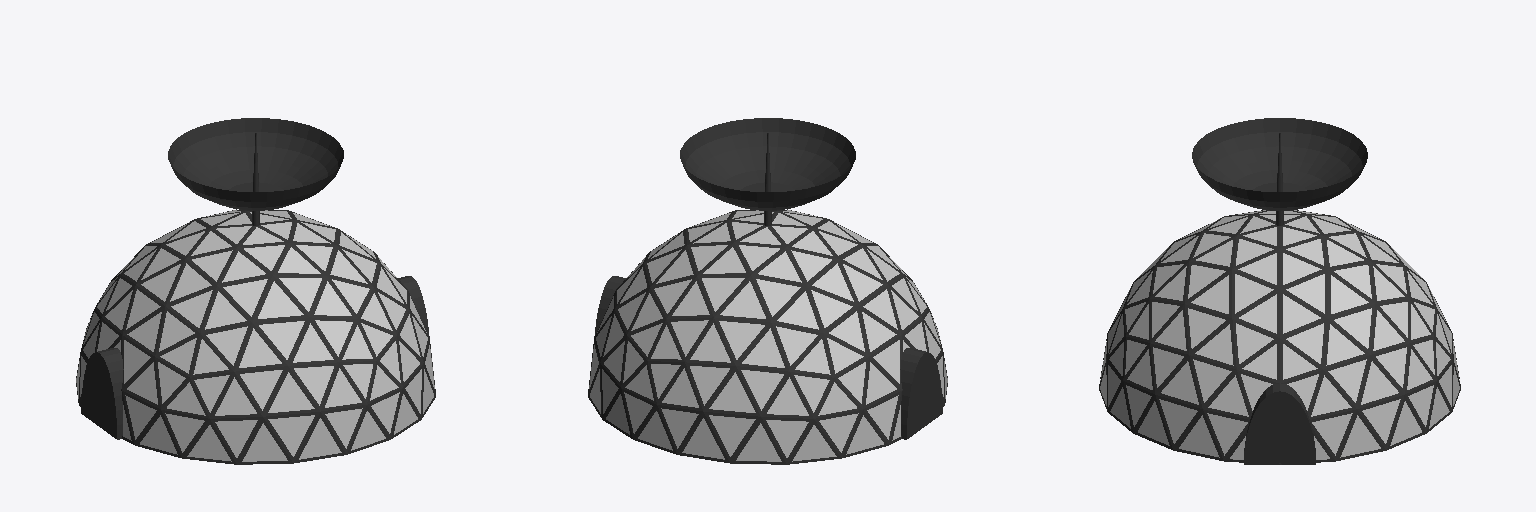
File: research_station.obj
3 views of the same model, side by side, from view 1: azimuth 30°, elevation 25°; view 2: azimuth 150°, elevation 25°; view 3: azimuth 270°, elevation 25° (orthographic).
Parts seen in each view (by area): view 1: Glass_Glass.001, Framework, Antenna_Framework.001; view 2: Glass_Glass.001, Framework, Antenna_Framework.001; view 3: Glass_Glass.001, Framework, Antenna_Framework.001.
Part boxes in pixels (x1,y1,x2,y2): Glass_Glass.001: (76,210,434,461); Framework: (76,209,435,464); Antenna_Framework.001: (168,118,343,225); Glass_Glass.001: (589,210,947,461); Framework: (588,209,947,464); Antenna_Framework.001: (680,118,855,225); Glass_Glass.001: (1100,210,1459,459); Framework: (1099,210,1460,464); Antenna_Framework.001: (1192,118,1367,225).
Bounding box in the file's own units: 10.02 × 8.09 × 10.02.